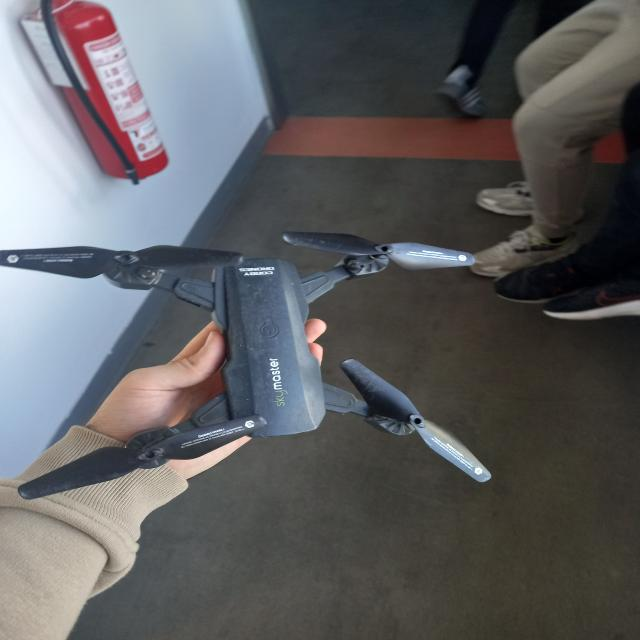drones: (0, 221, 507, 498)
